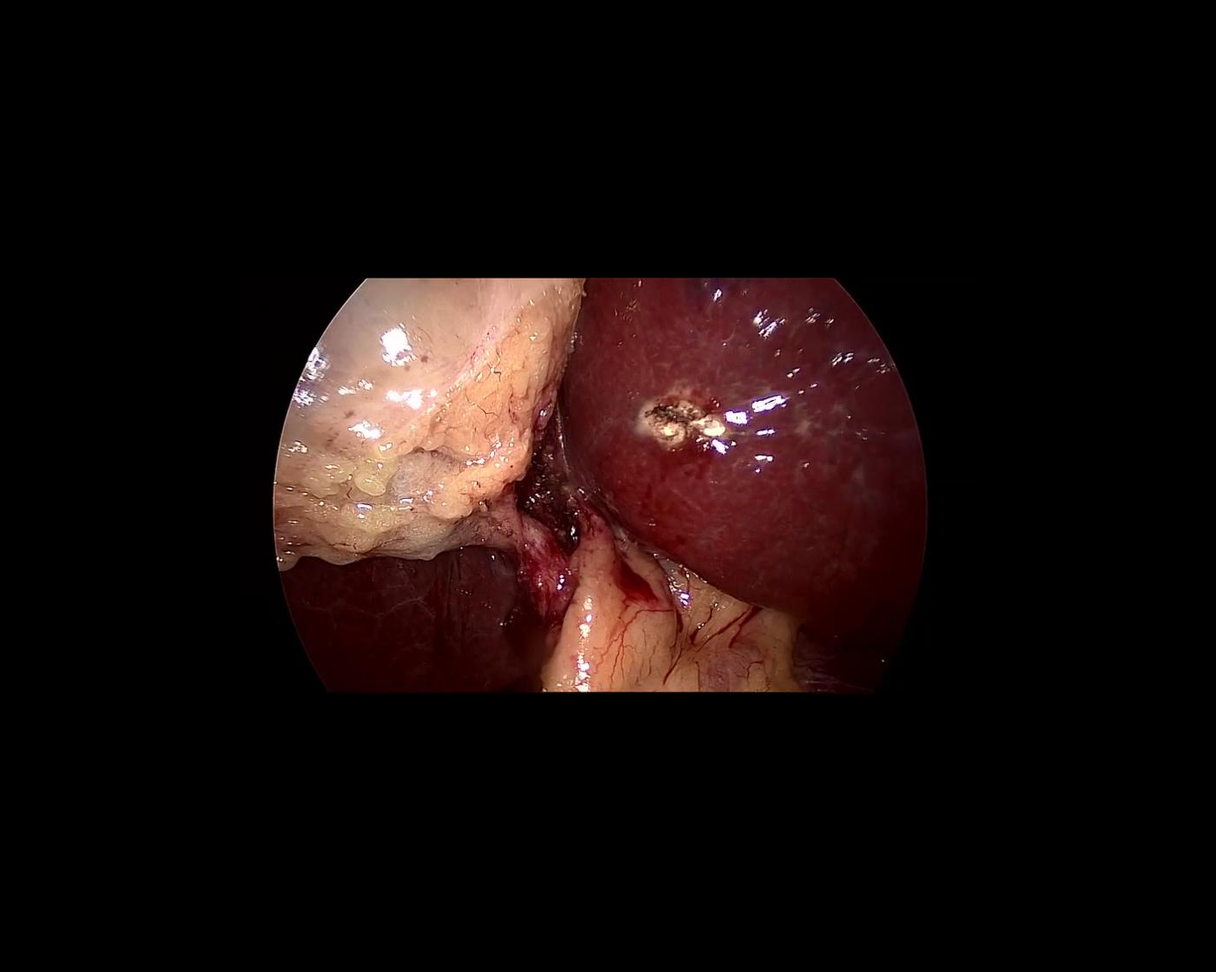Gallbladder: (273, 278, 585, 573)
Liver: (562, 278, 928, 694), (283, 549, 542, 692)
